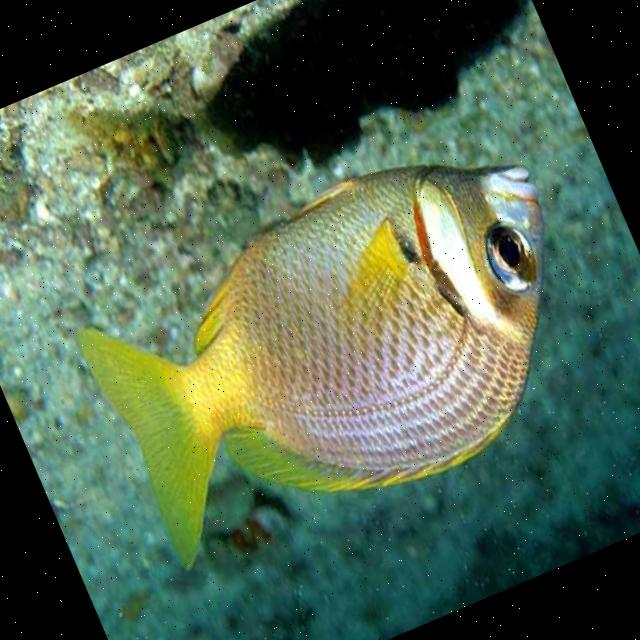ikan: (57, 108, 628, 588)
